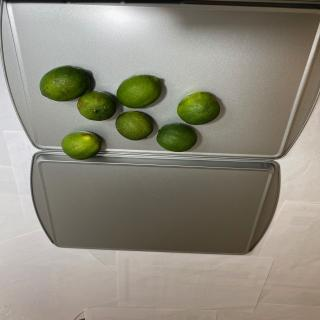Chilli: (38, 64, 222, 160)
Lemon: (39, 65, 90, 102), (116, 74, 162, 109), (177, 91, 220, 125), (156, 122, 198, 152), (77, 91, 116, 121), (61, 131, 101, 160), (115, 110, 153, 140)
